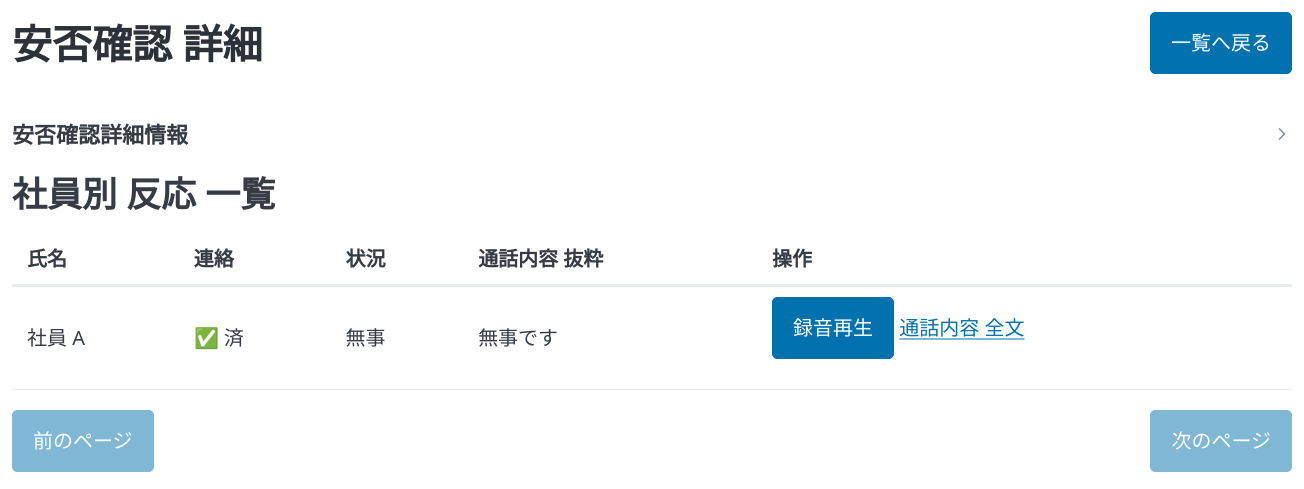
Test: CycleDetailPage › 録音再生ボタン押下で getCycleRecording を呼び、<audio> を表示する
What coordinates should you click on to do the following:
click the button with test id "play-button-emp-A"
I would click on:
 (833, 328)
Its box is [772, 297, 894, 359].
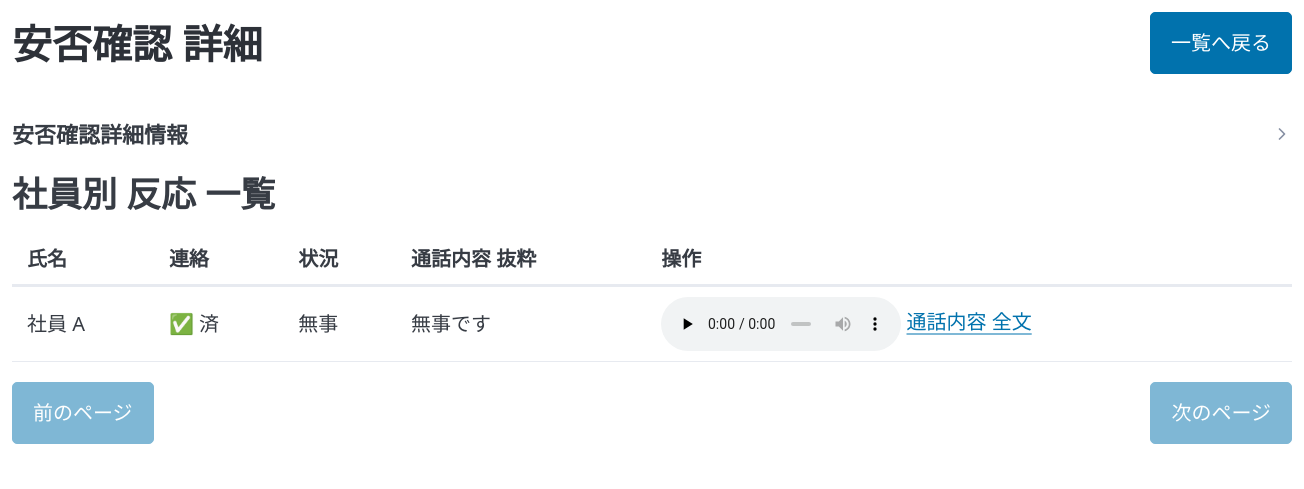
Result: the element with test id "audio-emp-A" is shown at [661, 297, 901, 351]
